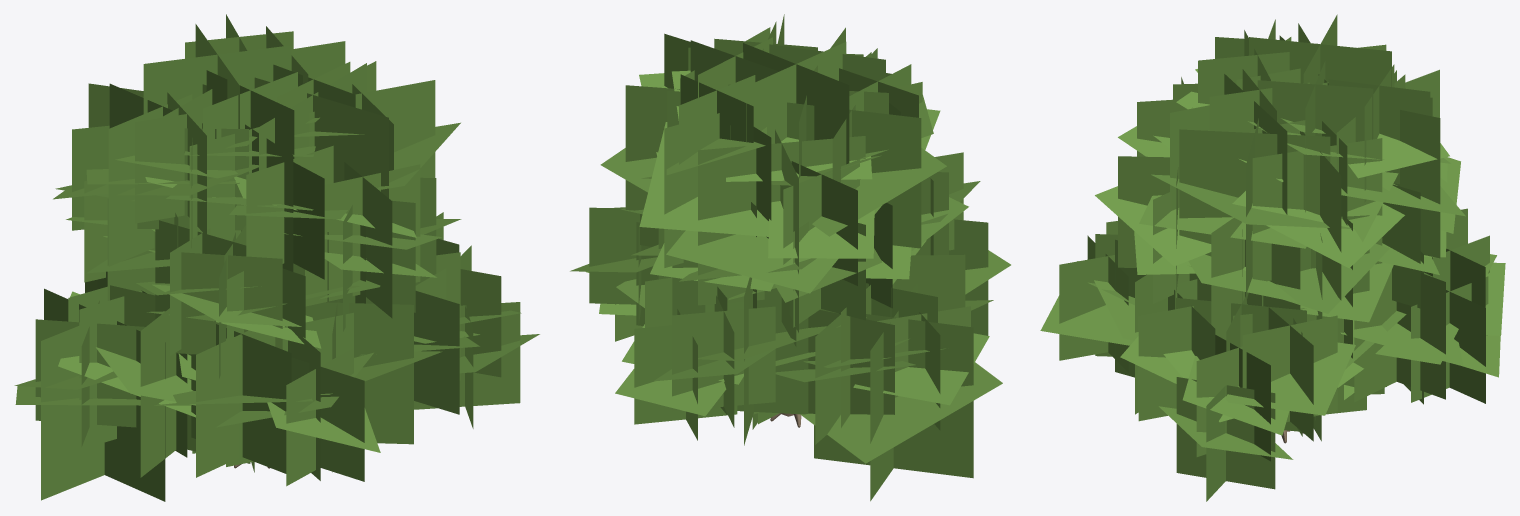
Rendered from pommier_loin.glb.
3 views of the same model, side by side, from view 1: azimuth 30°, elevation 25°; view 2: azimuth 150°, elevation 25°; view 3: azimuth 270°, elevation 25° (orthographic). The views are drawn at different scales.
Visible parts, largest first — view 1: Pommier_Leger_Loin; view 2: Pommier_Leger_Loin; view 3: Pommier_Leger_Loin.
Part boxes in pixels (x1,y1,x2,y2): Pommier_Leger_Loin: [14, 14, 539, 501]; Pommier_Leger_Loin: [570, 14, 1010, 501]; Pommier_Leger_Loin: [1040, 14, 1505, 501].
Bounding box in the file's own units: 7.99 × 6.44 × 7.2.
